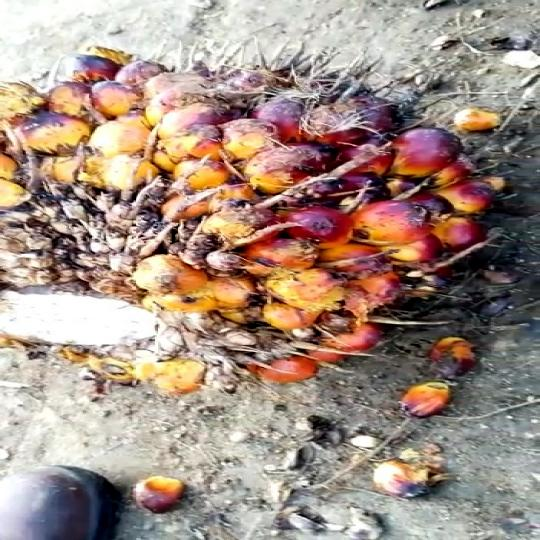masak: (0, 32, 504, 398)
